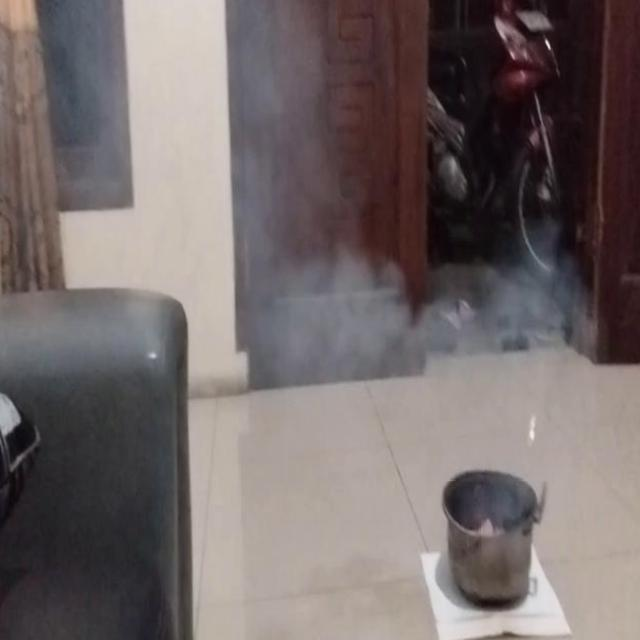fire: (57, 18, 300, 332), (284, 260, 574, 371)
